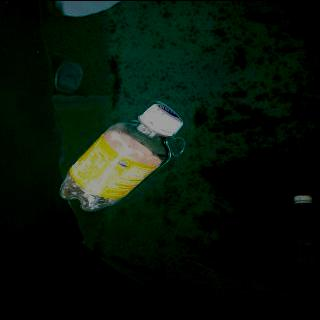bottle: (54, 100, 188, 216)
